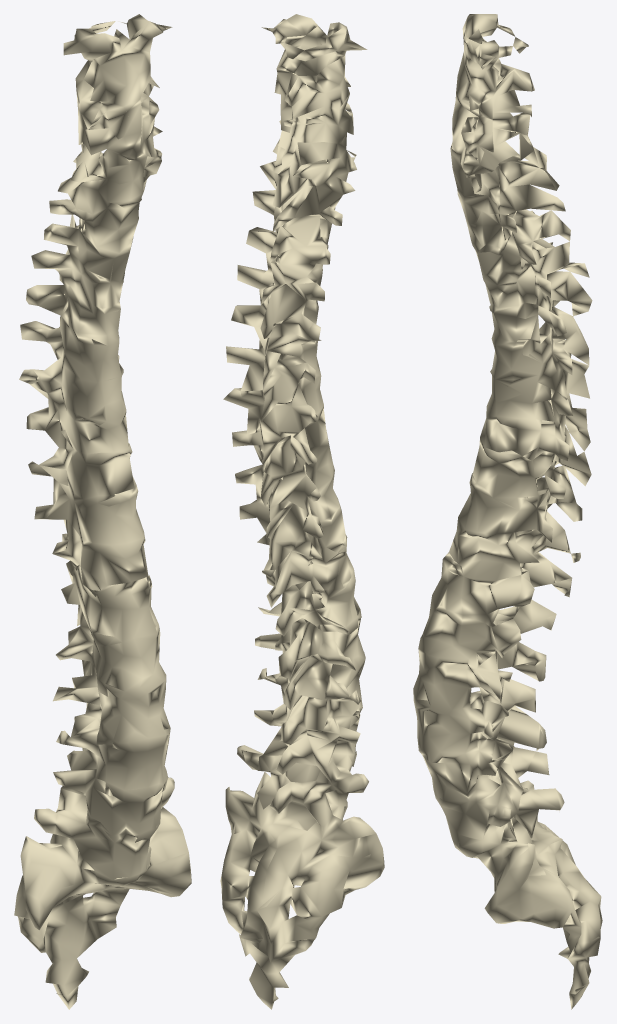
The model's file is vertebral_column.glb.
3 views of the same model, side by side, from view 1: azimuth 30°, elevation 25°; view 2: azimuth 150°, elevation 25°; view 3: azimuth 270°, elevation 25° (orthographic). The views are drawn at different scales.
Parts seen in each view (by area): view 1: Spine; view 2: Spine; view 3: Spine.
Boxes of the visible parts, x1,y1,x2,y2 form: Spine: [14, 14, 191, 1009]; Spine: [220, 14, 384, 1009]; Spine: [413, 14, 602, 1009].
Size of the model in its own units: 0.1176 by 0.6982 by 0.1216.
